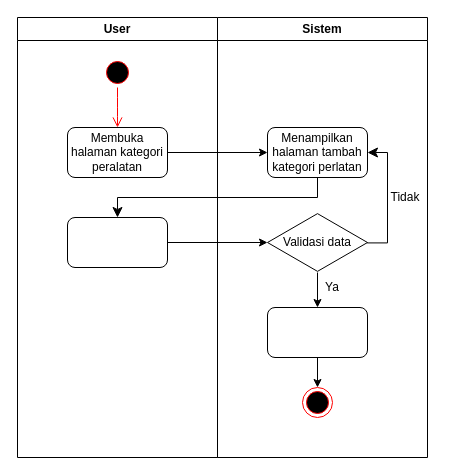
Some shapes in this 453 by 475 pixel diagram are drawn without their labels. Here are the shapes that lost their labels. From the top down, the centre of each, then its label:
At pixel 117 242: "Mengisi formulir tambah kategori peralatan".
At pixel 317 332: "Menambah data kategori peralatan".
